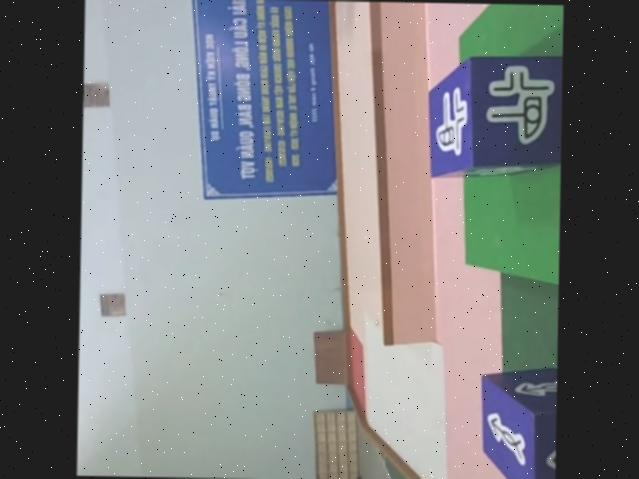R2 Real Blue: (428, 54, 562, 179), (479, 364, 557, 479)
